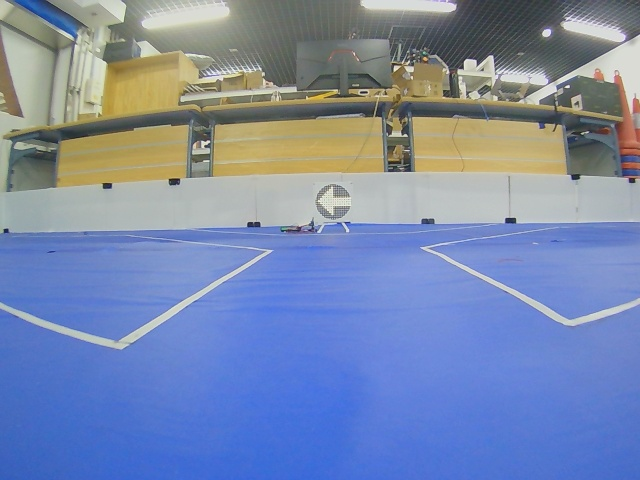left_yellow: (315, 184, 352, 220)
